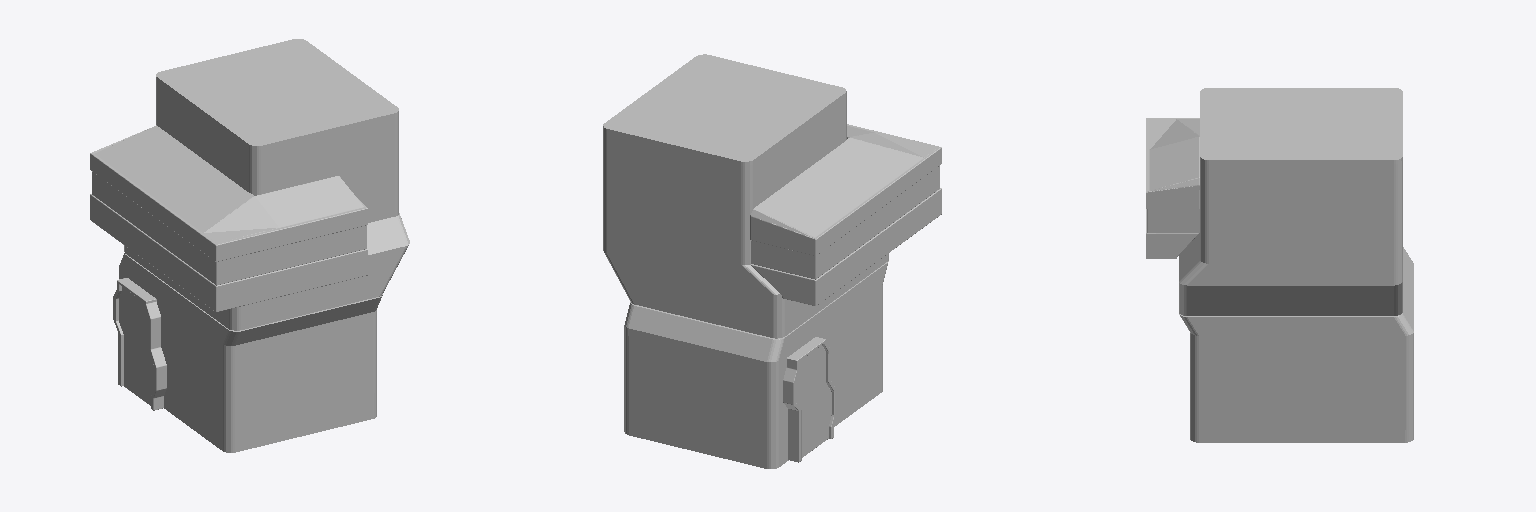
Rendered from Building_UV_0021.obj.
3 renders of one model, left to right at view 1: azimuth 30°, elevation 25°; view 2: azimuth 150°, elevation 25°; view 3: azimuth 270°, elevation 25°, orthographic.
Visible parts, largest first — view 1: Building_UV_00021; view 2: Building_UV_00021; view 3: Building_UV_00021.
Boxes of the visible parts, <box> form: Building_UV_00021: <box>90,39,409,452</box>; Building_UV_00021: <box>603,54,941,468</box>; Building_UV_00021: <box>1146,88,1413,442</box>.
Size of the model in its own units: 777 by 1024 by 844.